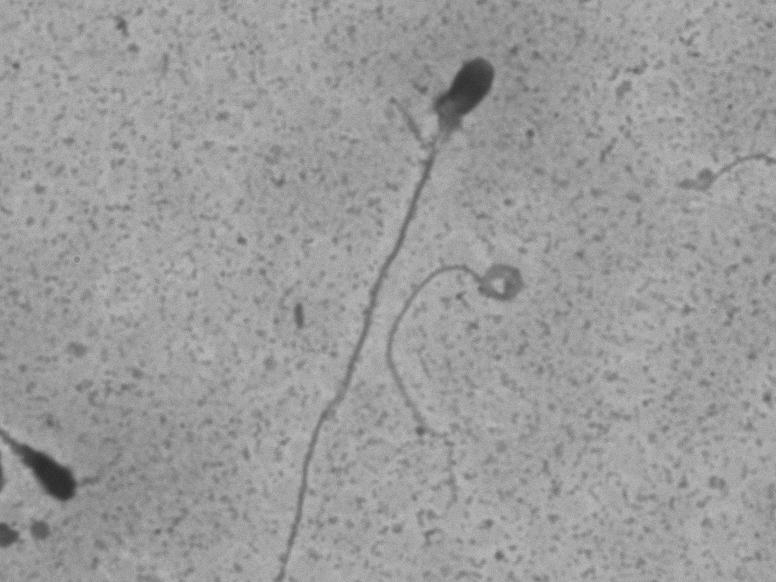Abnormal: (268, 40, 506, 574)
